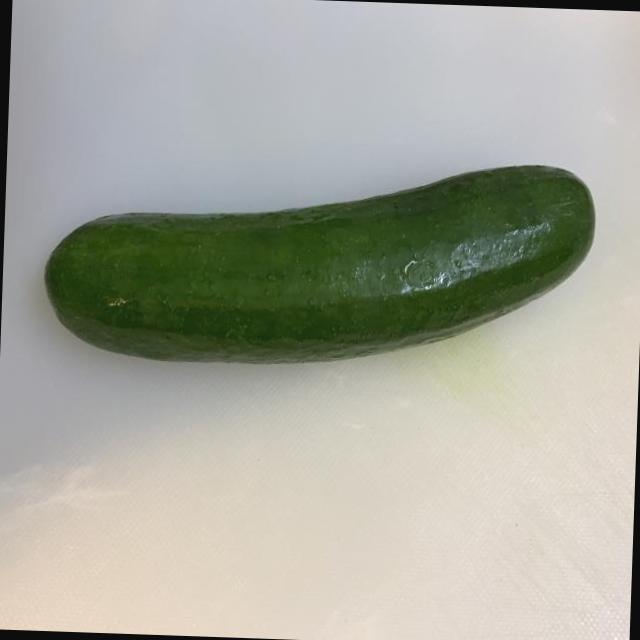Cucumber: (34, 140, 588, 376)
